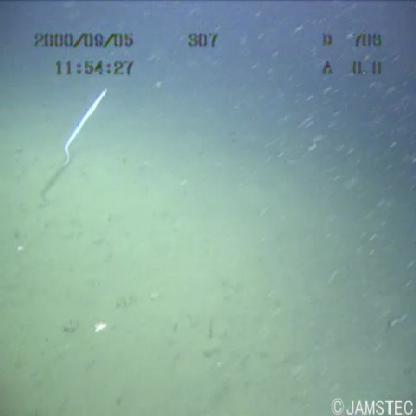Bio: (54, 82, 116, 172)
